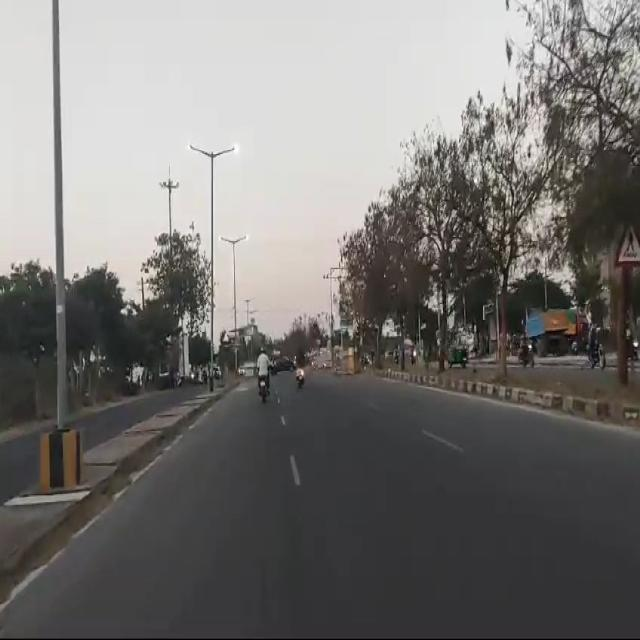bien_cam: (612, 214, 640, 268)
